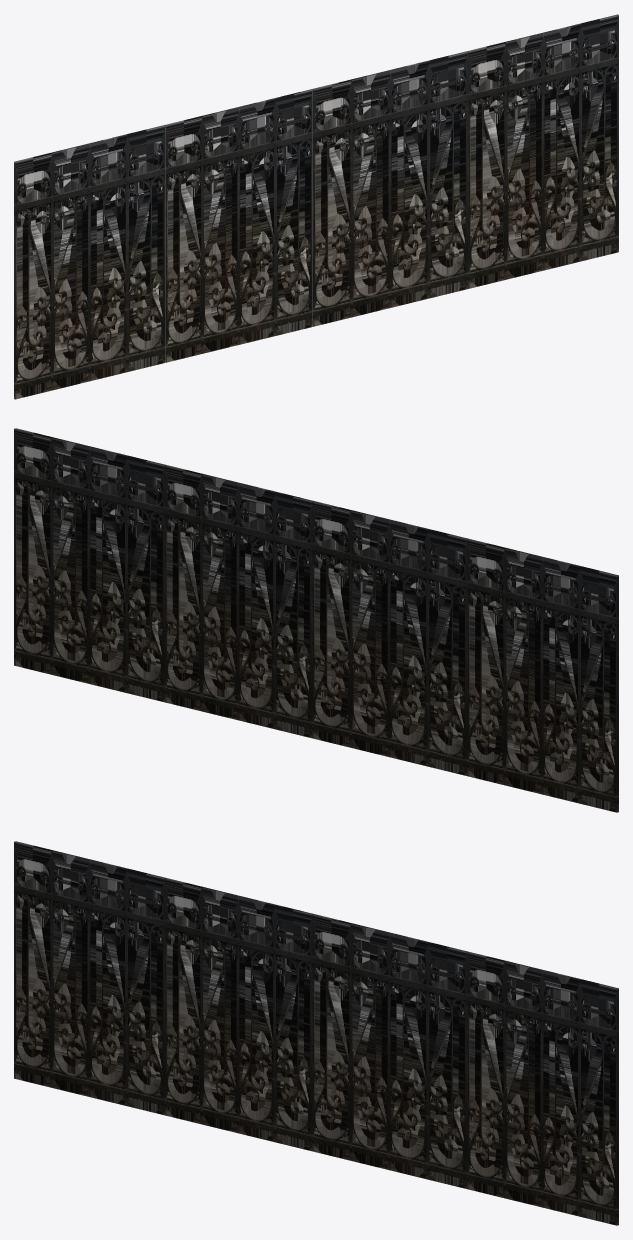
File: RoofFence2B.fbx
The picture shows the model from 3 angles, top to bottom: view 1: azimuth 30°, elevation 25°; view 2: azimuth 150°, elevation 25°; view 3: azimuth 330°, elevation 25°; orthographic projection.
Parts seen in each view (by area): view 1: RoofFence2B; view 2: RoofFence2B; view 3: RoofFence2B.
Part boxes in pixels (<box>): RoofFence2B: <box>14,14,618,399</box>; RoofFence2B: <box>14,428,618,812</box>; RoofFence2B: <box>14,841,618,1225</box>.
Bounding box in the file's own units: 400 × 150 × 1.
